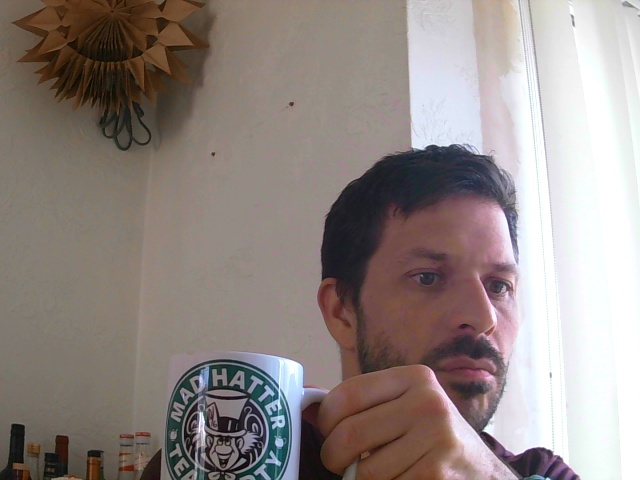mug: (160, 349, 306, 480)
